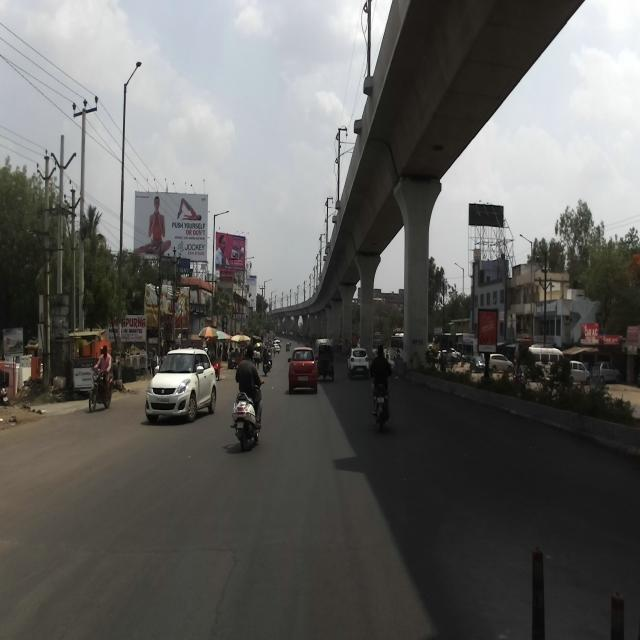Car_Maruti-Suzuki: (145, 346, 218, 420), (287, 347, 319, 394)
Car_Renault: (346, 346, 369, 378)
Car_TATA: (590, 360, 624, 385)
Car_Toyota: (488, 350, 515, 377)
mini-bus: (527, 343, 566, 384)
motorcycle_Hero: (87, 365, 117, 412)
motorcycle_Honda: (371, 373, 392, 435)
scooter: (230, 382, 262, 452)
